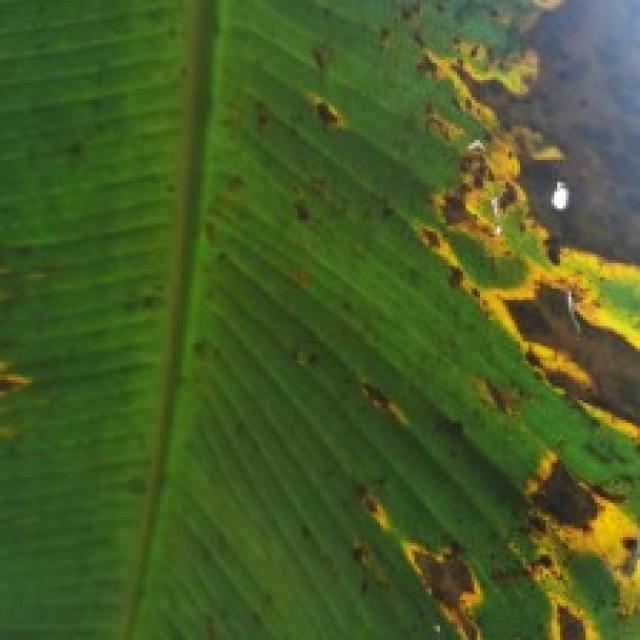Downey_mildrew: (189, 0, 640, 640), (0, 320, 47, 439)
